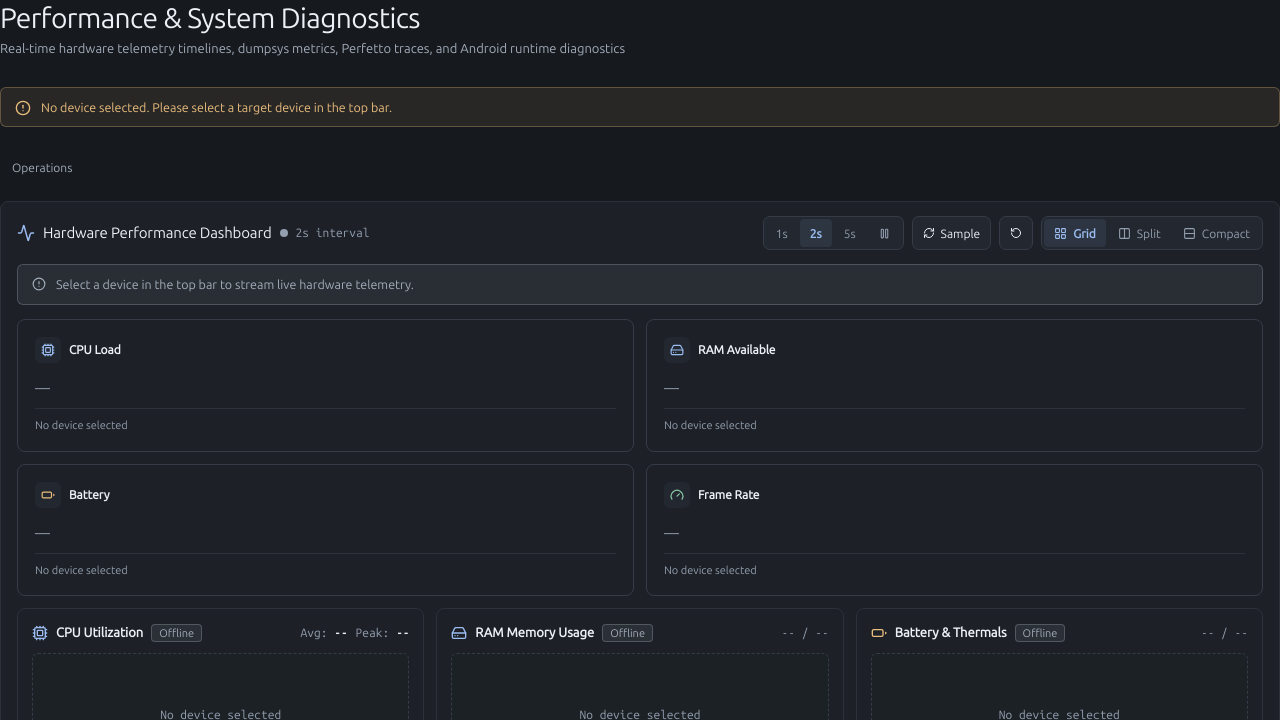
Test: Performance Dashboard, Multi-Graph Telemetry & Theme Selection › opens a grid KPI card as the hero chart
Later steps or results of the test are not shown.
Click the button with test id "kpi-card-diag-battery-state" at (89, 494), box [17, 464, 634, 596]
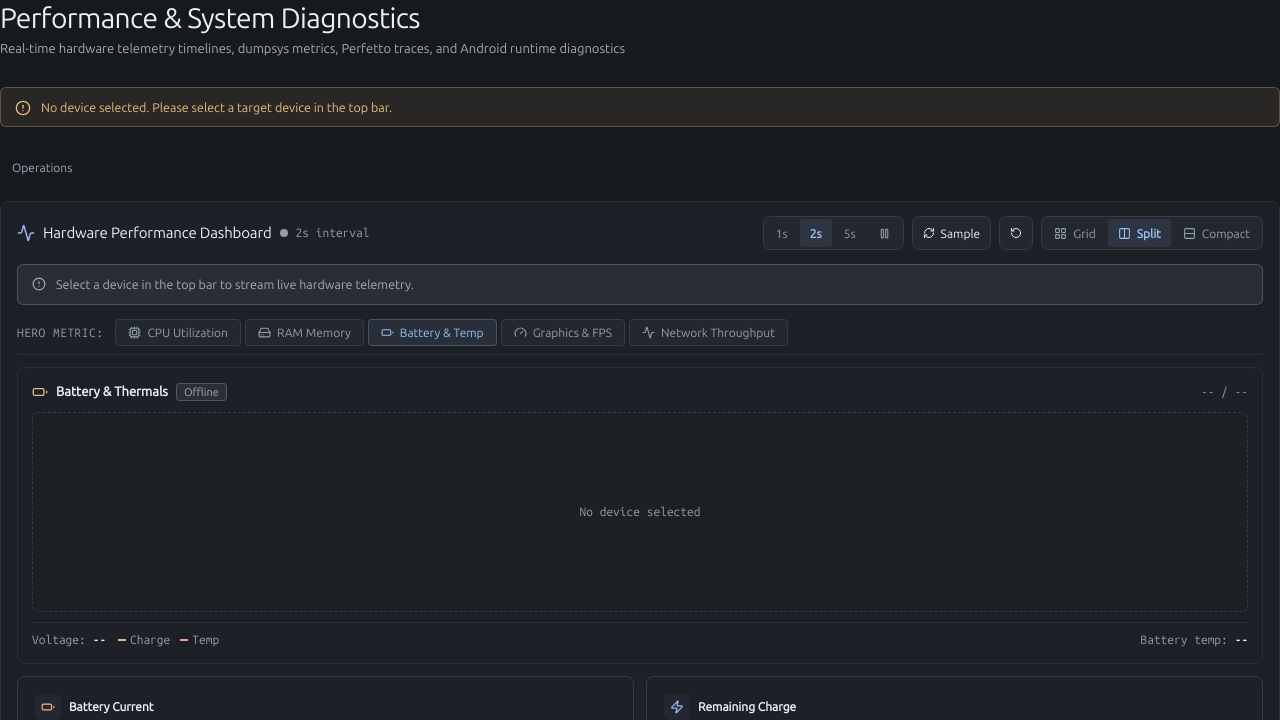
Result: the text "Battery Current" is shown at [69, 698, 154, 716]
